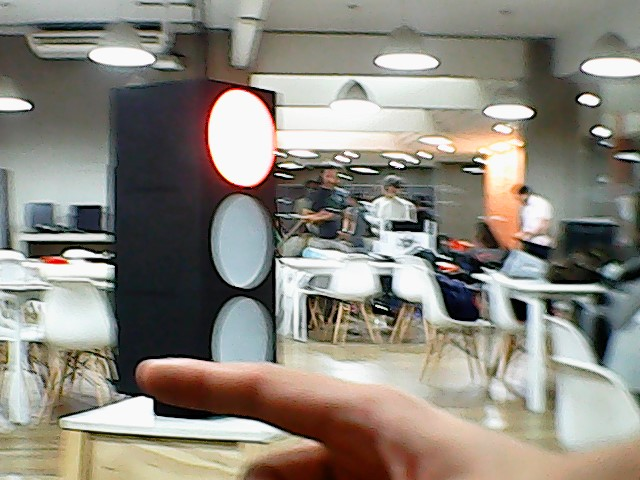vermelho: (104, 70, 295, 406)
